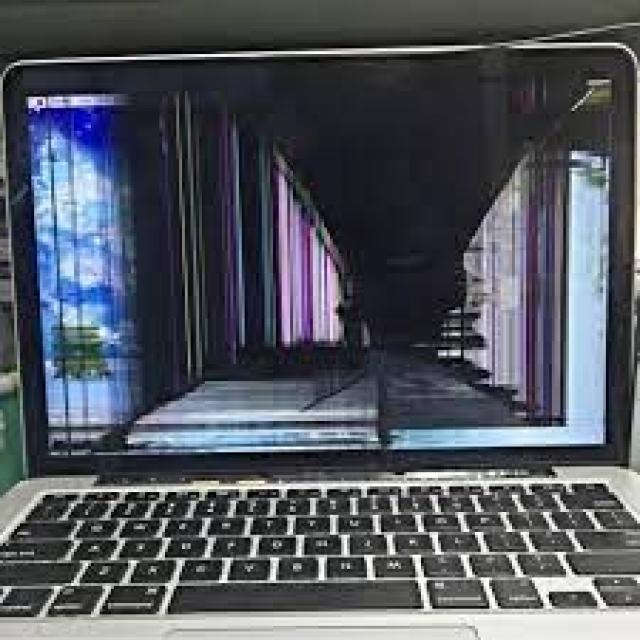Screen cracks: (22, 77, 614, 458)
